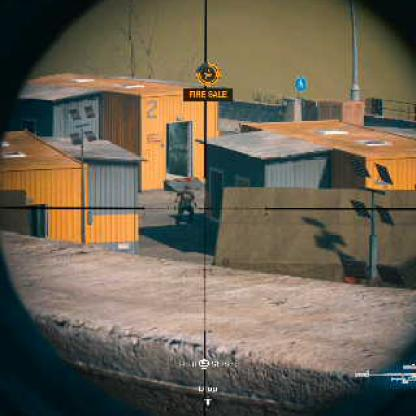enemy: (169, 184, 198, 224)
